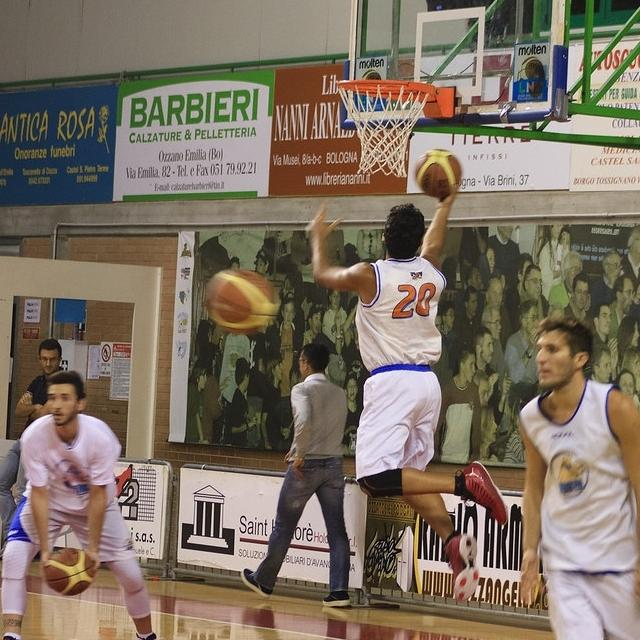basketball: (202, 268, 274, 334), (42, 547, 98, 596), (416, 149, 462, 199)
hoop: (334, 79, 434, 181)
